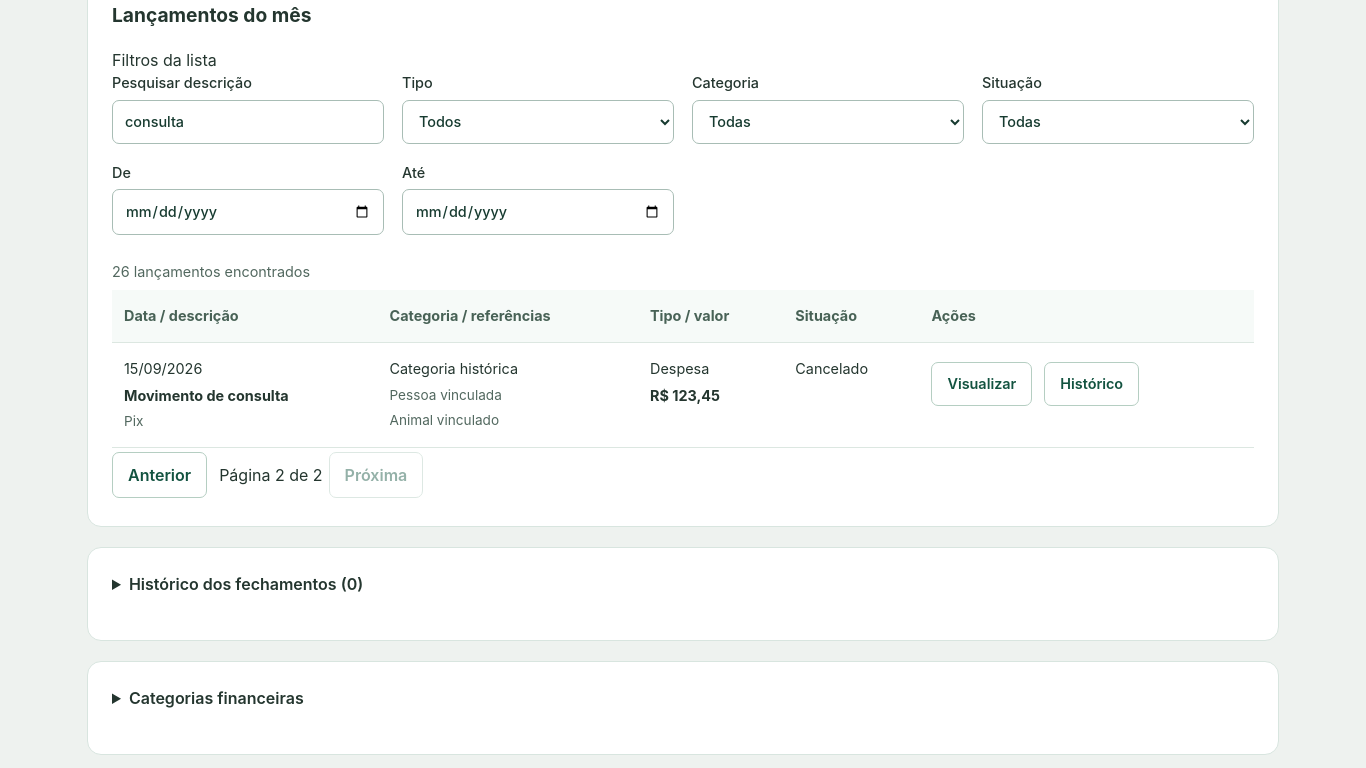
Test: Visualização financeira › abre o registro selecionado da lista e restaura mês, filtros e página no retorno
(page scrolled)
Check: the text "Movimento de consulta" is shown, box [124, 387, 289, 404]
Click the link "Visualizar" at (982, 384), box [931, 362, 1032, 406]
(page scrolled)
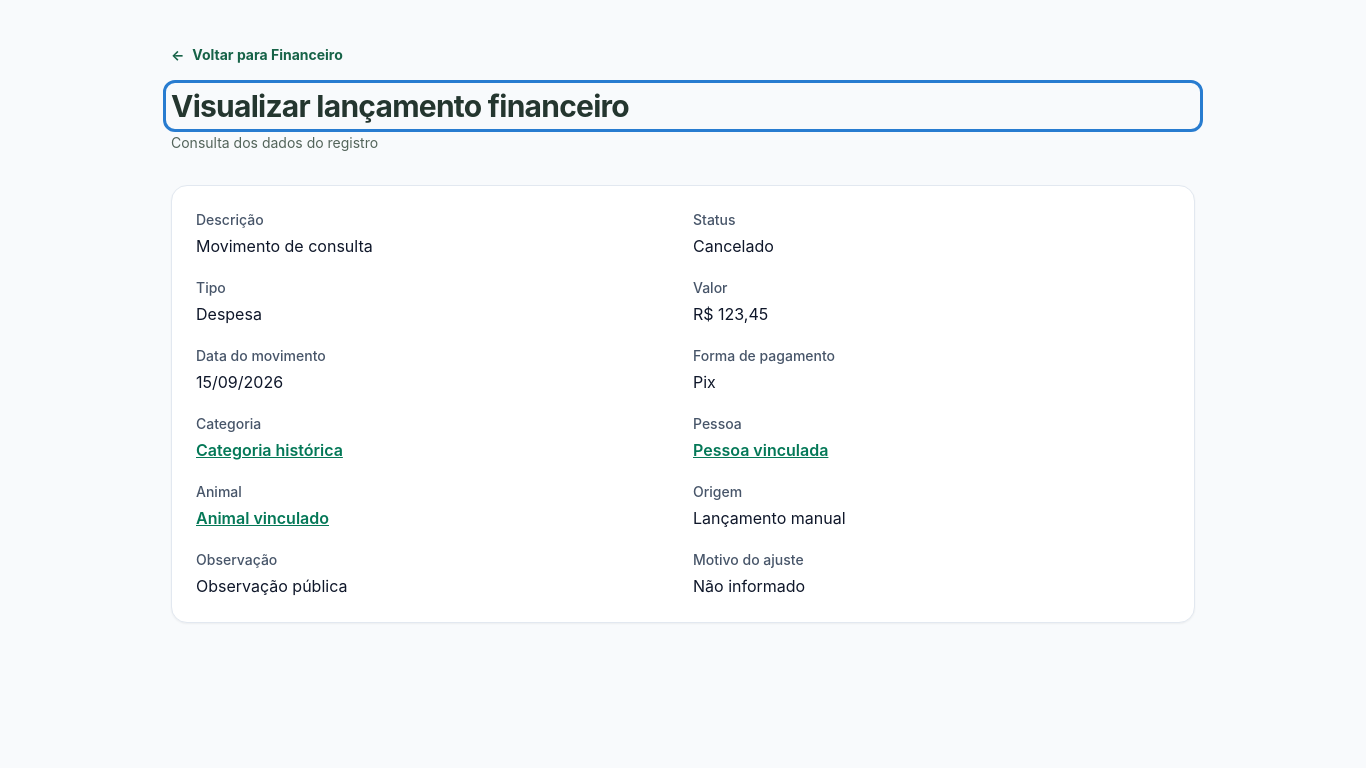
Check: the heading "Visualizar lançamento financeiro" is shown, box [171, 88, 629, 124]
Click the link "← Voltar para Financeiro" at (257, 54), box [171, 46, 343, 62]
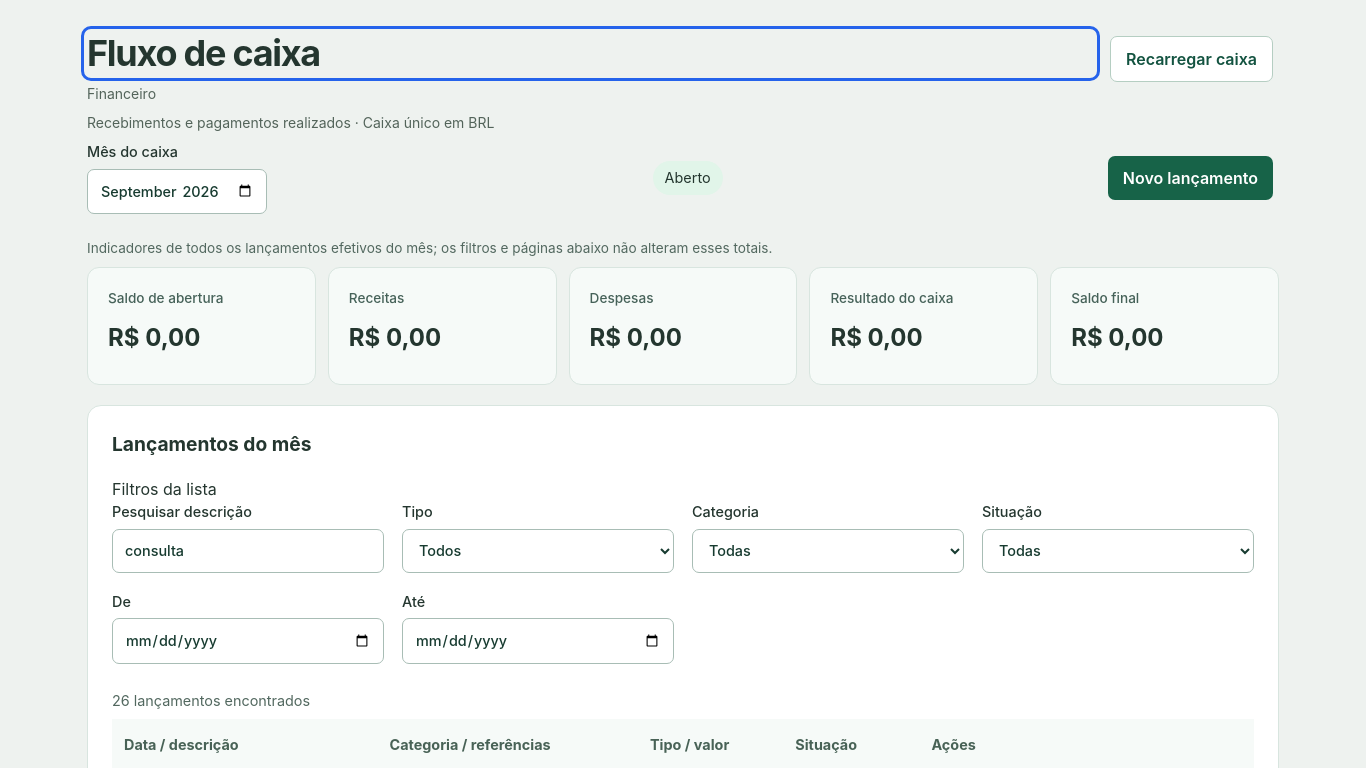
Check: the search field labelled "Pesquisar descrição" holds "consulta", box [112, 529, 384, 573]
